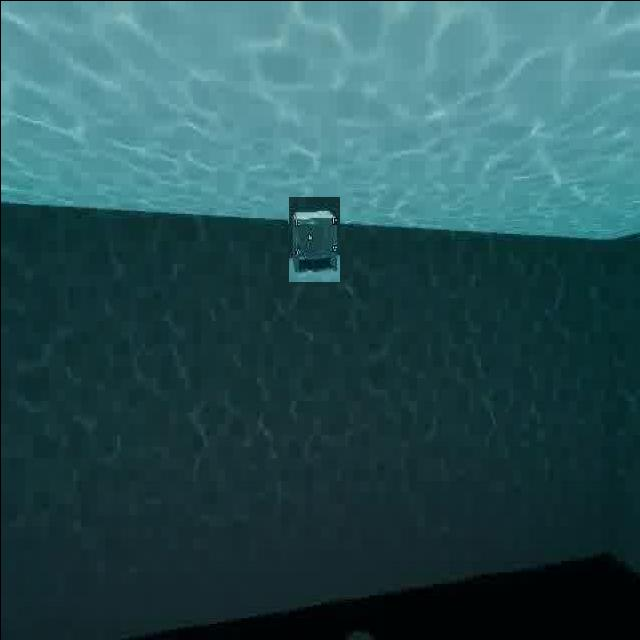Docking Station: (287, 196, 339, 282)
